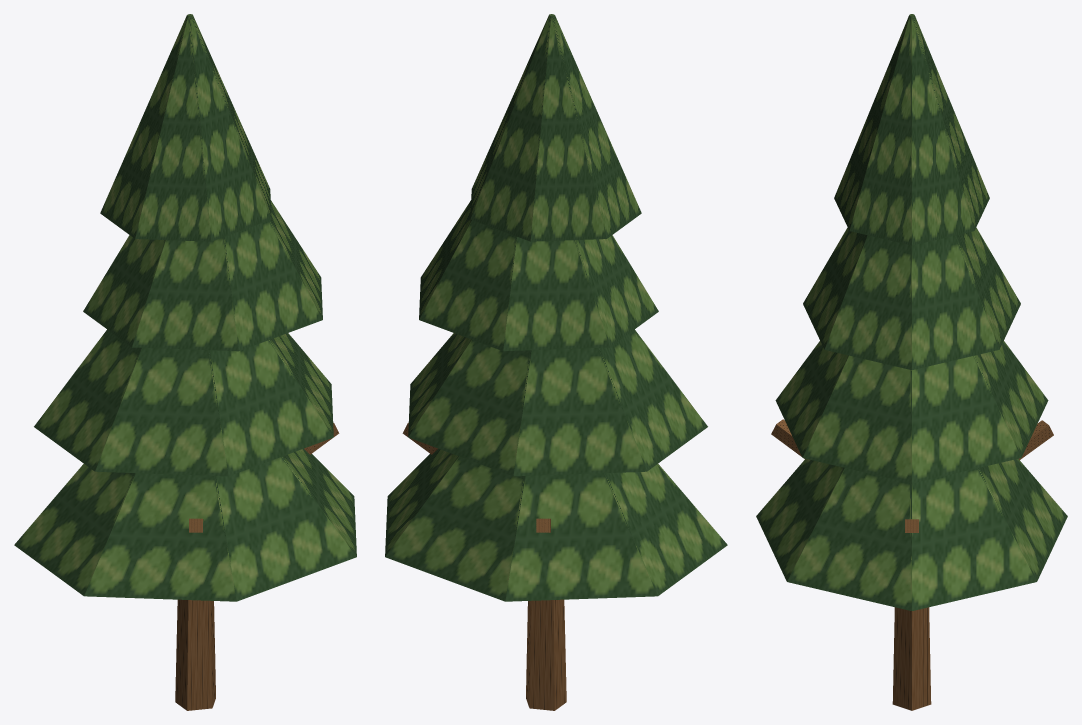
The model's file is tree-upland-lod0.glb.
The picture shows the model from 3 angles, left to right: view 1: azimuth 30°, elevation 25°; view 2: azimuth 150°, elevation 25°; view 3: azimuth 270°, elevation 25°; orthographic projection.
Size of the model in its own units: 0.3802 by 0.82 by 0.3393.
Materials: 1 (1 with a texture image).
